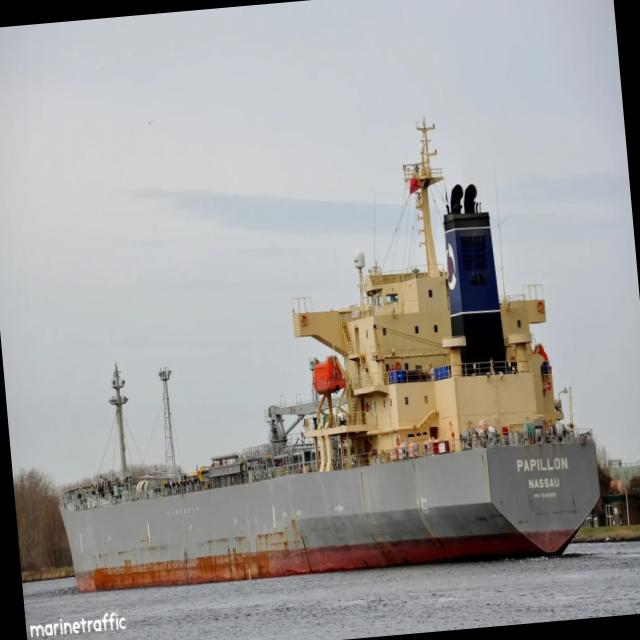Tanker: (59, 123, 599, 591)
